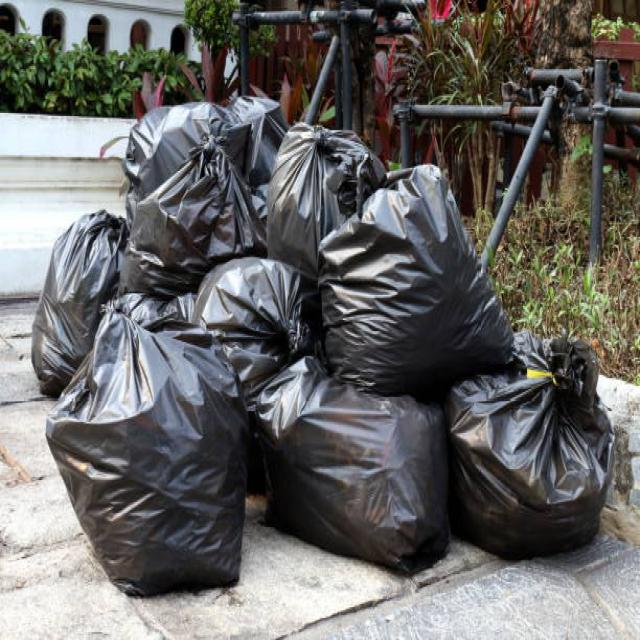sampah-detection: (41, 295, 249, 602), (316, 155, 525, 400), (252, 356, 456, 575), (452, 336, 617, 564), (124, 135, 264, 285), (263, 120, 388, 272), (31, 206, 123, 400), (192, 251, 322, 388)
